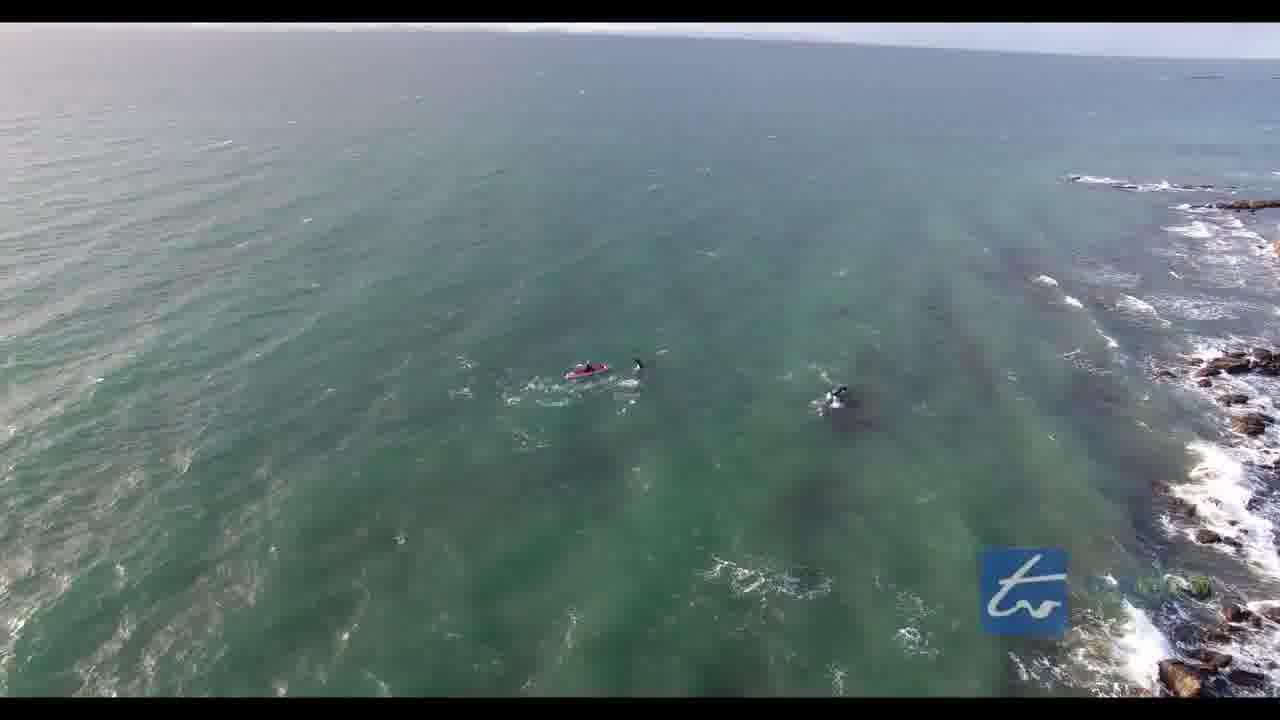human: (812, 382, 866, 414)
